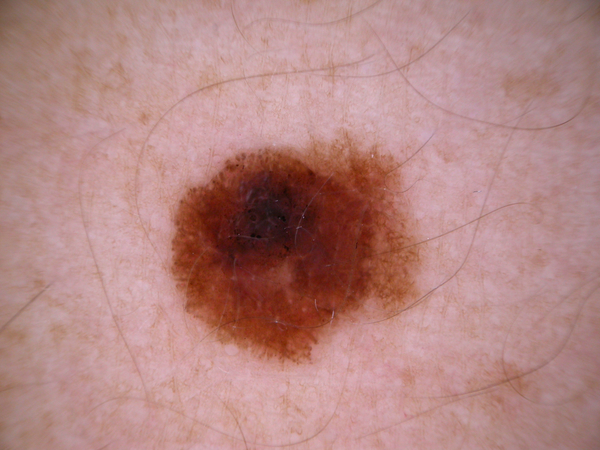Detected Lesion: (162, 136, 423, 370)
